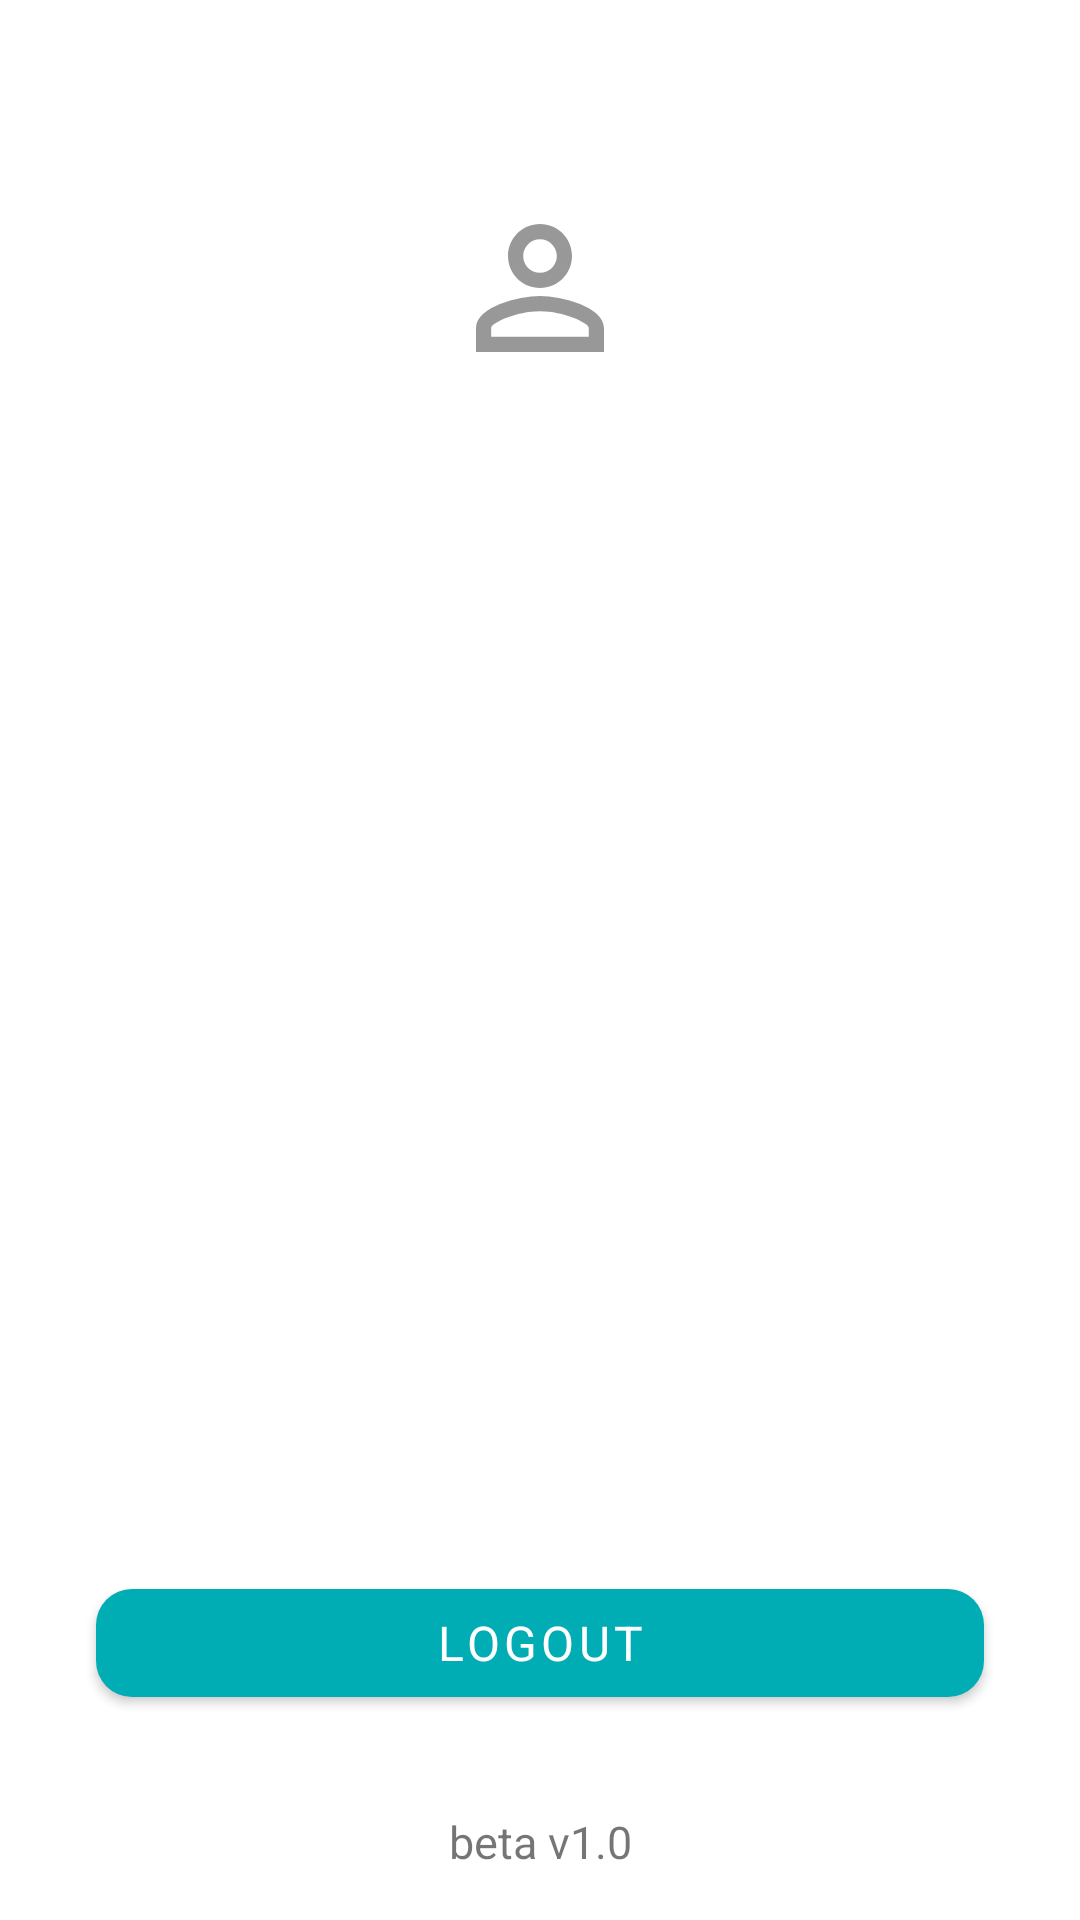

Named icons in this screenshot (1080×1920) and their centers, (x=x, y=y):
person: (x=540, y=288)
